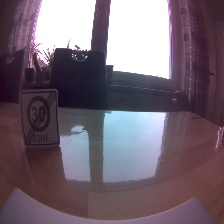dreisiger_zone_ende: (19, 88, 60, 148)
